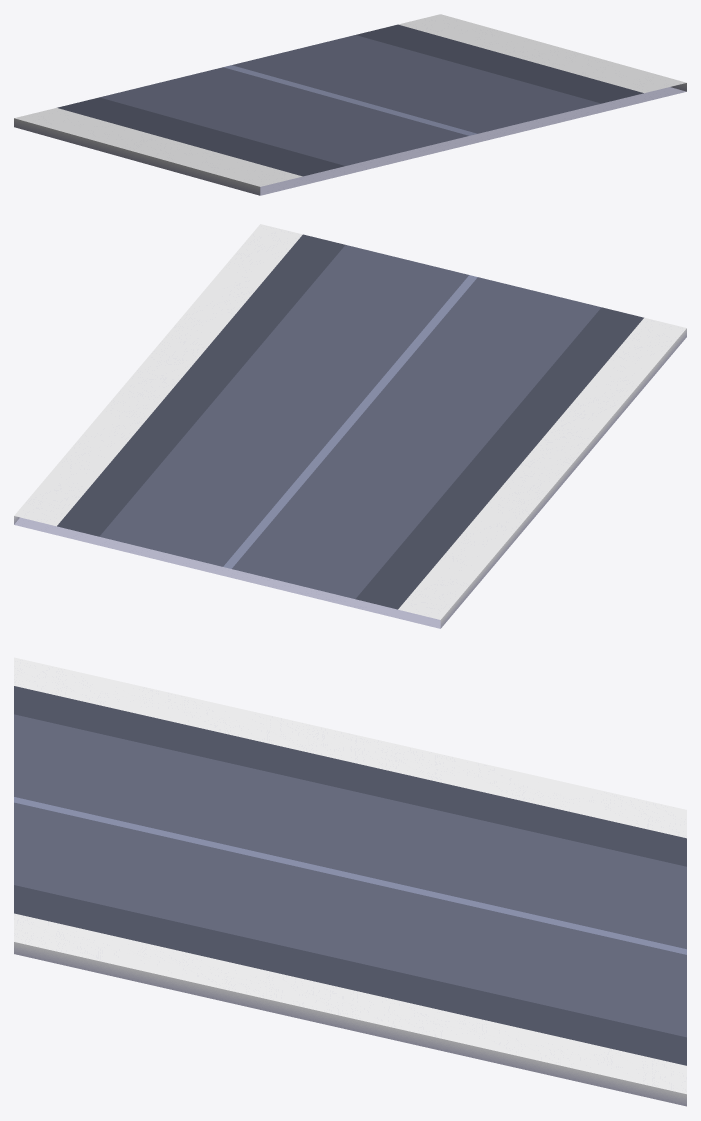
Rendered from road-Straight-BiSlopeDown-BiSlopeDown-Down1-Center-Size1.glb.
The picture shows the model from 3 angles, top to bottom: view 1: azimuth 30°, elevation 25°; view 2: azimuth 150°, elevation 25°; view 3: azimuth 270°, elevation 25°; orthographic projection. The views are drawn at different scales.
Visible parts, largest first — view 1: road-Straight-BiSlopeDown-BiSlopeDown-Down1-Center-Size1; view 2: road-Straight-BiSlopeDown-BiSlopeDown-Down1-Center-Size1; view 3: road-Straight-BiSlopeDown-BiSlopeDown-Down1-Center-Size1.
Boxes of the visible parts, x1,y1,x2,y2 form: road-Straight-BiSlopeDown-BiSlopeDown-Down1-Center-Size1: (14, 14, 686, 195); road-Straight-BiSlopeDown-BiSlopeDown-Down1-Center-Size1: (14, 224, 686, 628); road-Straight-BiSlopeDown-BiSlopeDown-Down1-Center-Size1: (14, 657, 686, 1106).
Size of the model in its own units: 1 by 0.27 by 1.
1 material, 1 textured.
